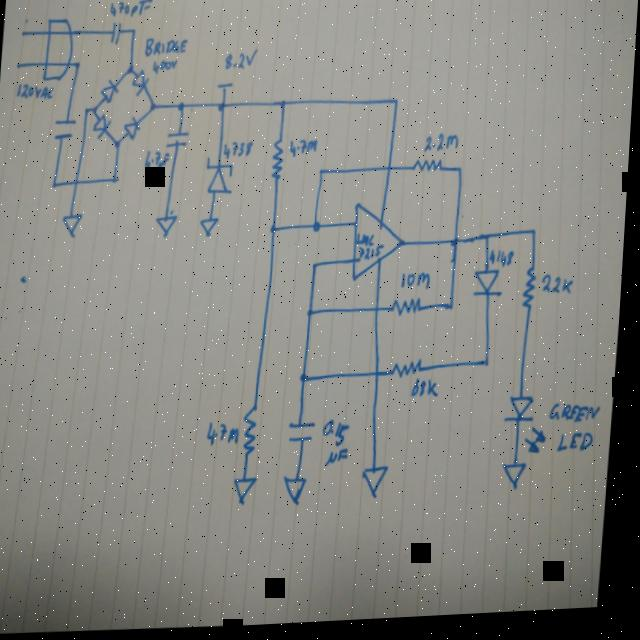capacitor: (291, 424, 320, 448), (54, 119, 77, 140), (168, 133, 189, 150), (110, 22, 122, 46)
crossover: (385, 168, 396, 178), (376, 373, 386, 383), (376, 308, 385, 319), (75, 179, 81, 187)
diode: (504, 399, 554, 464), (206, 159, 237, 198), (475, 272, 506, 303), (93, 114, 113, 141), (131, 70, 150, 98), (124, 116, 143, 142), (101, 80, 120, 105)
ground: (365, 470, 395, 503), (506, 467, 535, 497), (287, 478, 313, 511), (238, 479, 263, 508), (157, 216, 180, 239), (63, 214, 85, 238), (201, 220, 222, 239)
junction: (313, 223, 324, 236), (217, 103, 228, 115), (73, 60, 83, 72), (271, 226, 281, 237), (302, 376, 313, 386), (279, 101, 289, 111), (452, 241, 462, 251), (149, 102, 158, 113), (113, 175, 122, 186), (309, 310, 318, 321), (178, 102, 186, 113), (450, 307, 459, 316), (486, 362, 494, 372), (532, 232, 540, 242), (485, 237, 493, 246), (128, 66, 135, 76), (116, 141, 123, 150), (313, 263, 320, 272), (394, 101, 400, 111), (458, 169, 465, 177), (131, 27, 137, 36), (92, 106, 98, 115), (54, 180, 60, 188), (84, 109, 90, 117), (320, 171, 326, 179)
resistor: (246, 409, 265, 461), (524, 272, 541, 315), (396, 362, 427, 385), (270, 143, 287, 183), (395, 302, 426, 322), (414, 161, 444, 178)
terminal: (217, 83, 234, 93), (13, 61, 24, 70), (18, 29, 27, 38)
text: (324, 421, 357, 470), (554, 406, 605, 432), (210, 422, 245, 452), (144, 37, 187, 59), (357, 234, 388, 264), (109, 0, 153, 21), (561, 436, 602, 458), (16, 81, 56, 102), (543, 278, 576, 303), (225, 50, 258, 73), (414, 380, 445, 404), (424, 137, 461, 157), (403, 275, 434, 295), (290, 141, 320, 161), (224, 142, 254, 162), (145, 151, 172, 172), (491, 254, 518, 273), (152, 60, 178, 76)
